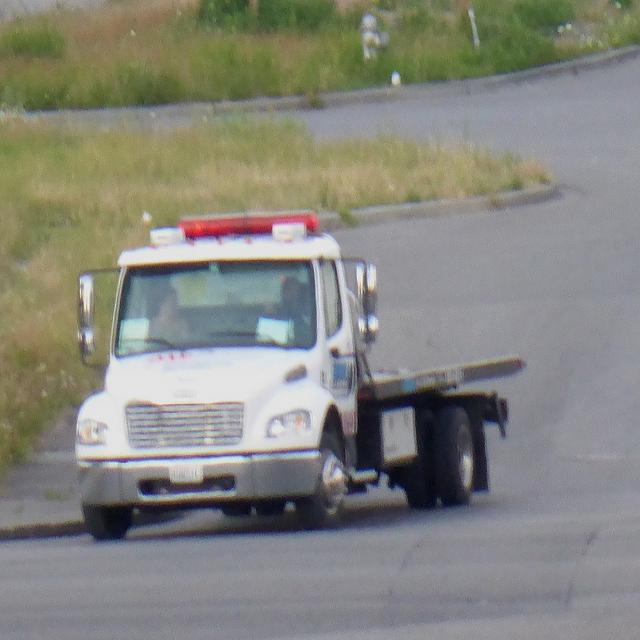Vehicle: (74, 210, 527, 544)
